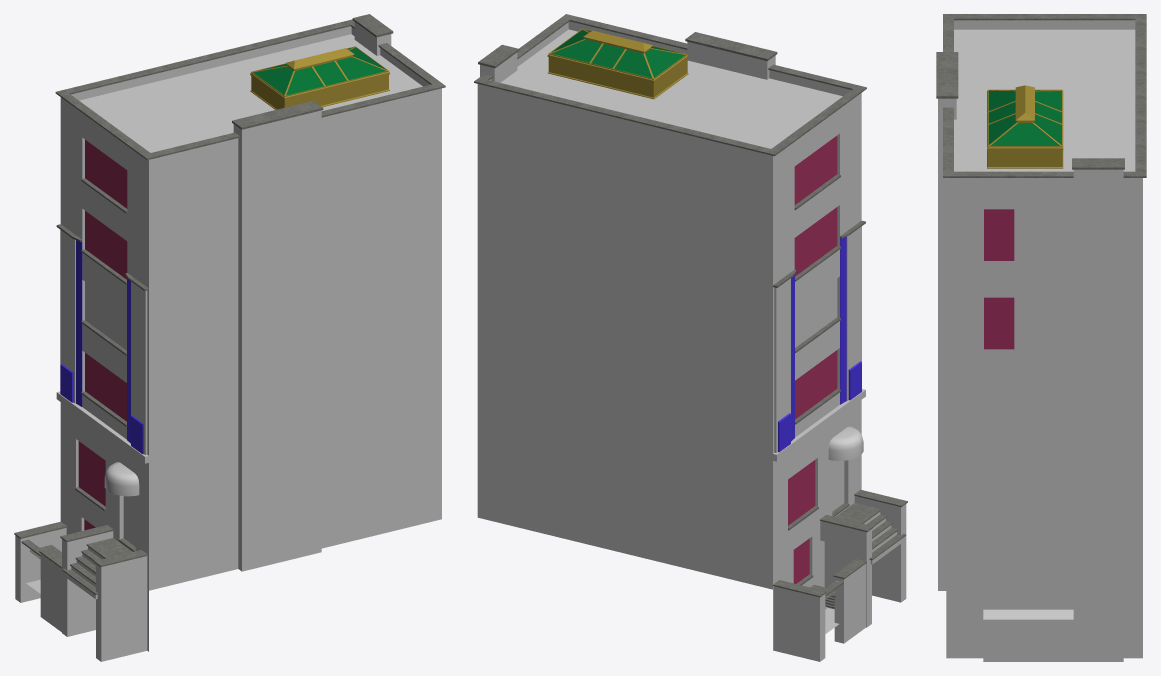
The model's file is mcp_building_13_LOD_1.FBX.
3 renders of one model, left to right at view 1: azimuth 30°, elevation 25°; view 2: azimuth 150°, elevation 25°; view 3: azimuth 270°, elevation 25°, orthographic. The views are drawn at different scales.
Parts seen in each view (by area): view 1: mcp_building_13_walls, mcp_building_13_roof, mcp_building_13, mcp_building_13_concrete_01, mcp_building_13_props_02; view 2: mcp_building_13_walls, mcp_building_13, mcp_building_13_roof, mcp_building_13_concrete_01, mcp_building_13_props_02; view 3: mcp_building_13_walls, mcp_building_13_roof, mcp_building_13_concrete_01, mcp_building_13_props_02, mcp_building_13.
Boxes of the visible parts, x1=… form: mcp_building_13_walls: x1=15, y1=22, x2=441, y2=661; mcp_building_13_roof: x1=79, y1=34, x2=422, y2=152; mcp_building_13: x1=60, y1=139, x2=143, y2=546; mcp_building_13_concrete_01: x1=14, y1=14, x2=445, y2=594; mcp_building_13_props_02: x1=250, y1=46, x2=389, y2=109; mcp_building_13_walls: x1=477, y1=21, x2=906, y2=661; mcp_building_13: x1=778, y1=135, x2=863, y2=587; mcp_building_13_roof: x1=500, y1=29, x2=842, y2=148; mcp_building_13_concrete_01: x1=474, y1=14, x2=907, y2=633; mcp_building_13_props_02: x1=547, y1=28, x2=688, y2=99; mcp_building_13_walls: x1=938, y1=20, x2=1142, y2=661; mcp_building_13_roof: x1=954, y1=29, x2=1135, y2=171; mcp_building_13_concrete_01: x1=936, y1=14, x2=1146, y2=177; mcp_building_13_props_02: x1=987, y1=85, x2=1063, y2=168; mcp_building_13: x1=984, y1=209, x2=1014, y2=437.
Bounding box in the file's own units: 1861 × 2652 × 870.
